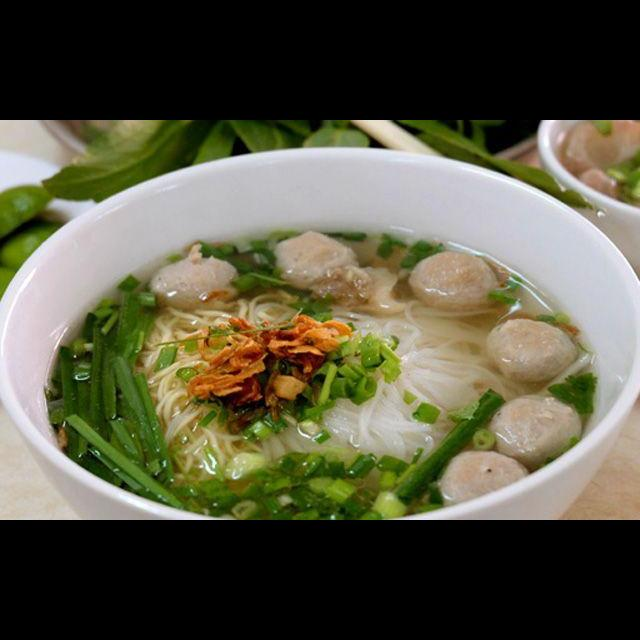banh hu tieu: (231, 291, 536, 474)
